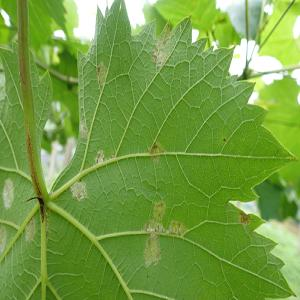Folha: (0, 0, 300, 300)
Fungo: (140, 200, 186, 268), (150, 19, 171, 68), (142, 232, 162, 268), (2, 176, 14, 210), (69, 179, 87, 201), (149, 140, 165, 164), (24, 214, 36, 244), (96, 60, 108, 88), (166, 219, 186, 235), (152, 200, 166, 222), (238, 210, 252, 225), (94, 148, 105, 164), (80, 120, 88, 139)
